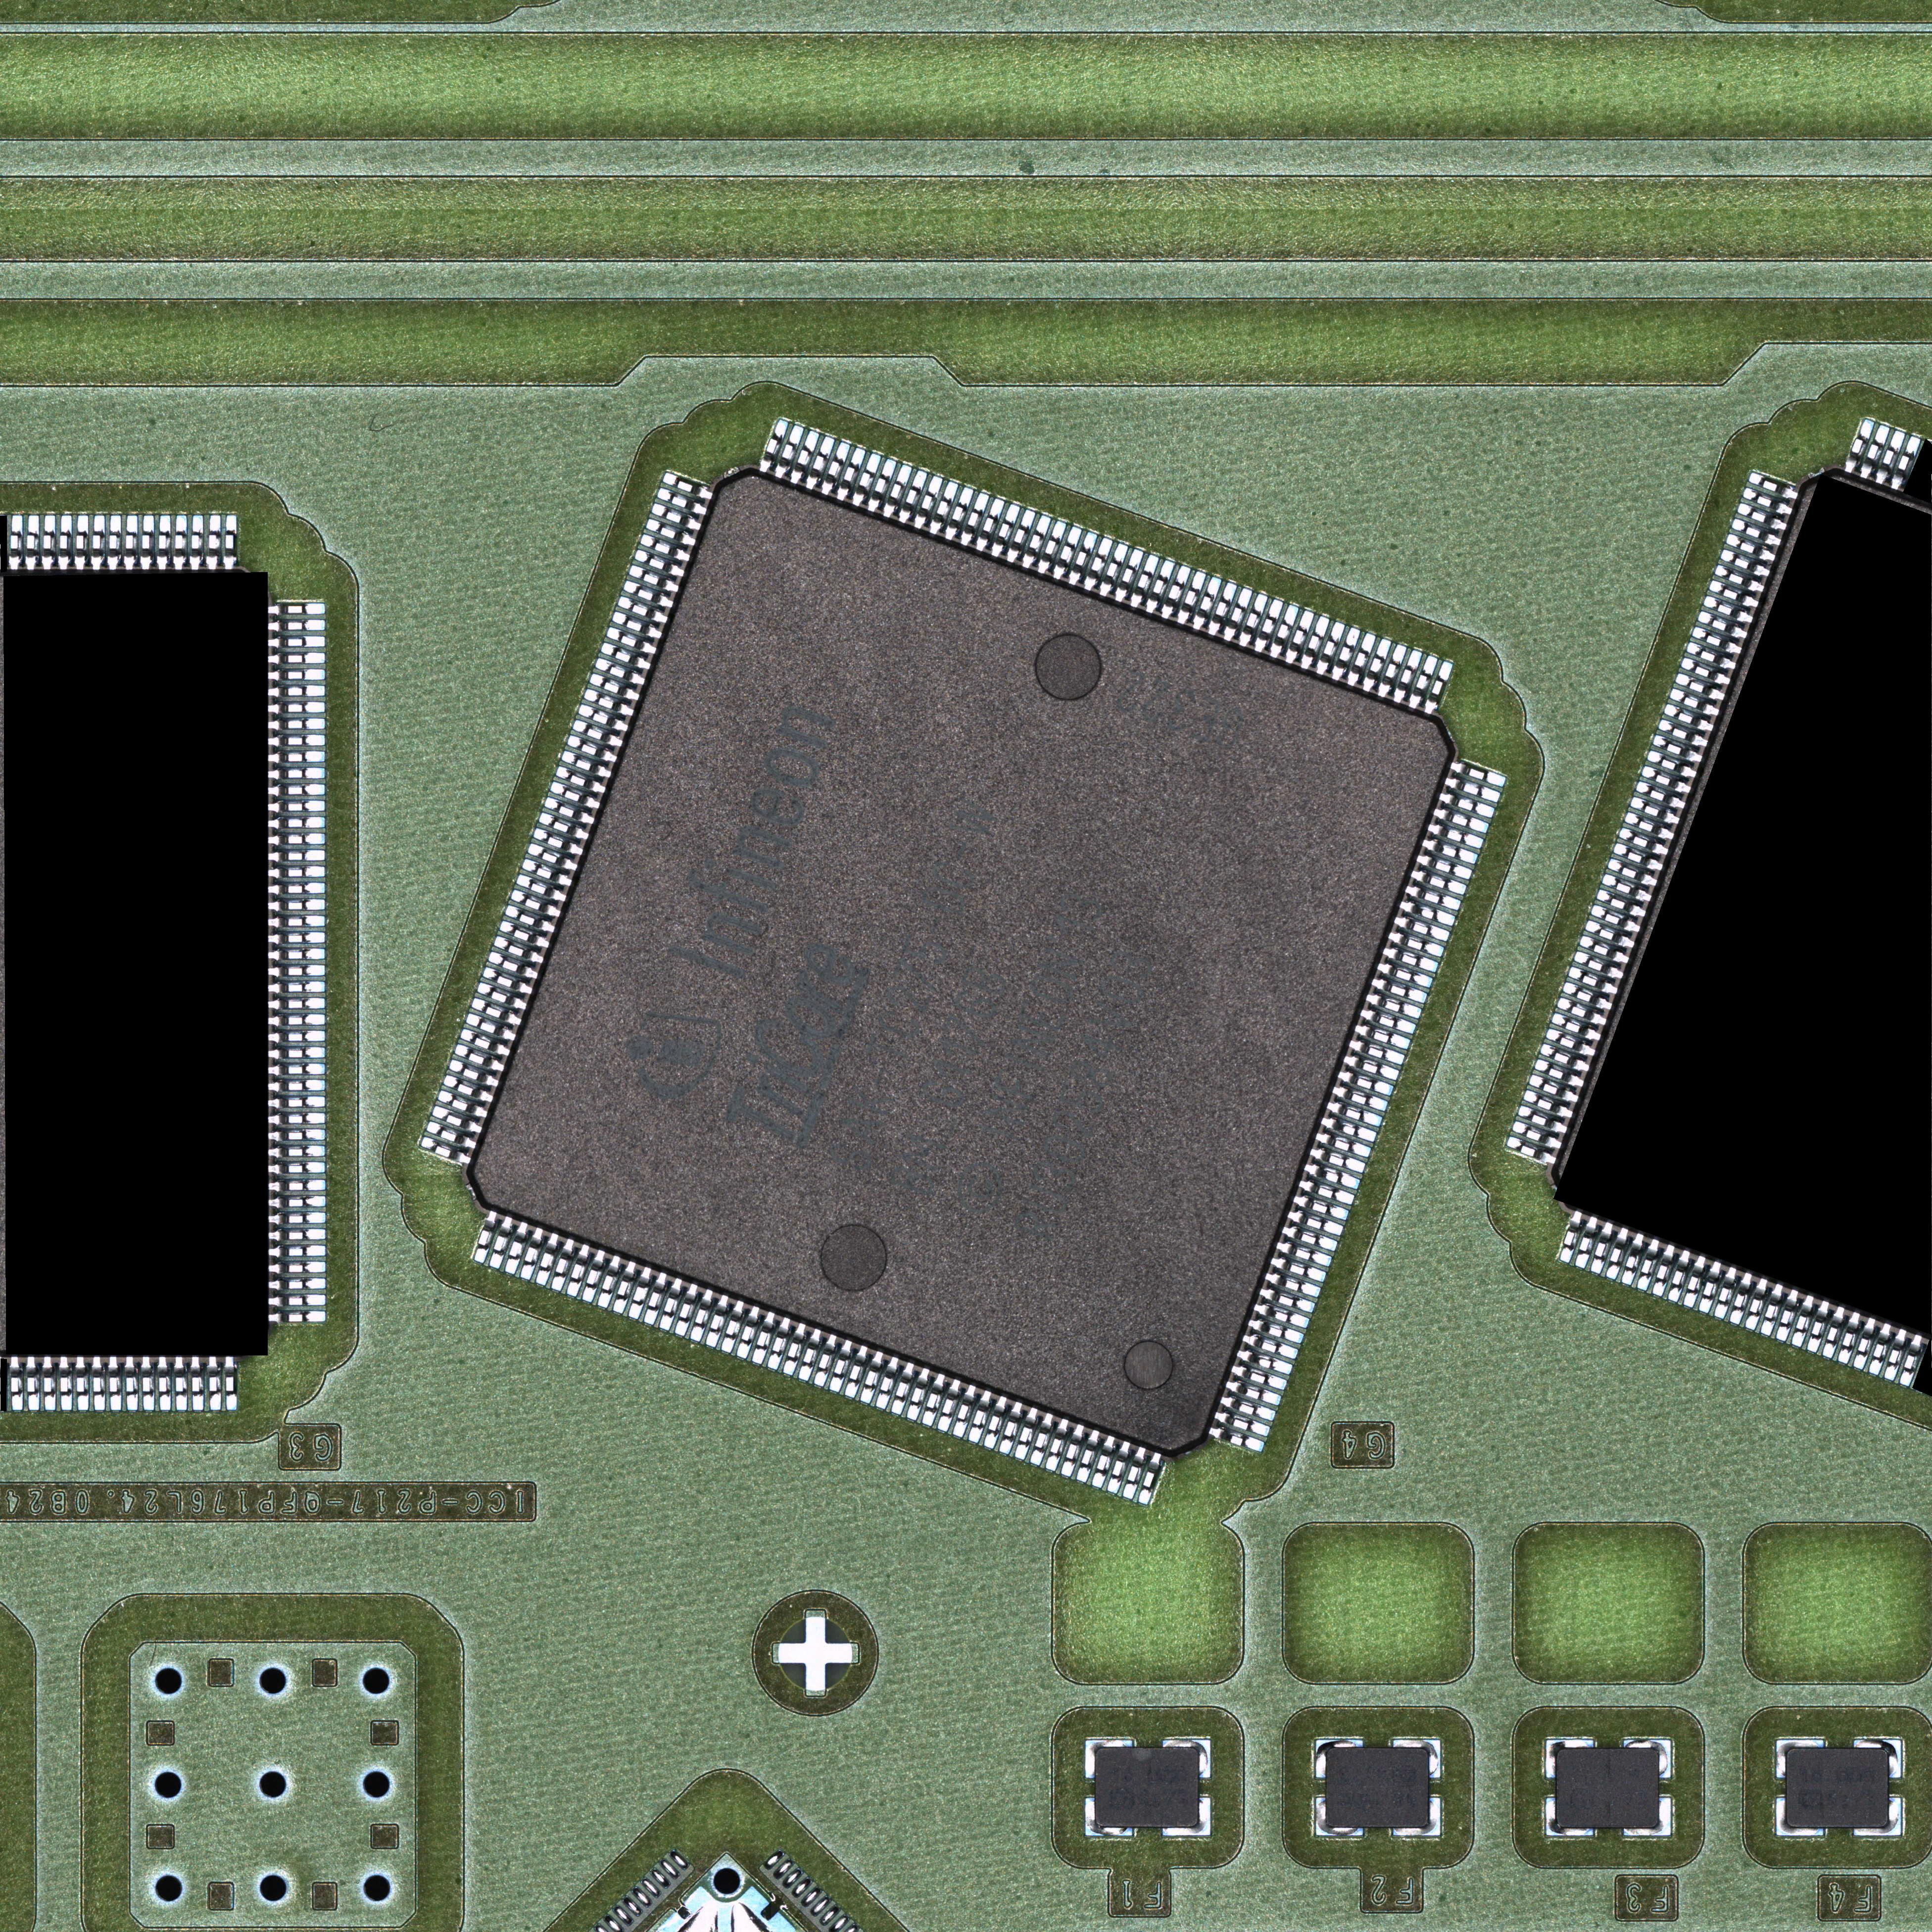Package: (462, 462, 1461, 1461), (1095, 1748, 1200, 1828), (1325, 1748, 1430, 1828), (1557, 1748, 1660, 1828), (1787, 1748, 1890, 1828)
Solder: (1343, 630, 1380, 690), (1240, 1329, 1302, 1364), (939, 485, 977, 543), (1375, 640, 1410, 701), (1283, 607, 1318, 667), (1189, 573, 1224, 633), (971, 495, 1007, 556), (1003, 506, 1039, 566), (1033, 517, 1069, 577), (863, 455, 899, 515), (817, 439, 853, 499), (847, 449, 883, 510), (1086, 1433, 1122, 1493), (932, 1376, 968, 1437), (901, 1366, 936, 1426), (715, 1299, 750, 1359), (745, 1309, 780, 1369), (1212, 1407, 1274, 1440), (1217, 1391, 1279, 1424), (1251, 1299, 1313, 1332), (1246, 1315, 1307, 1348), (1256, 1283, 1318, 1316), (1302, 1159, 1364, 1192), (1297, 1175, 1359, 1208), (1307, 1143, 1369, 1177), (1408, 865, 1470, 899), (1421, 658, 1456, 717), (1405, 653, 1440, 711), (1391, 648, 1426, 706), (1359, 637, 1394, 695), (1329, 625, 1364, 683), (1313, 619, 1348, 678), (1251, 596, 1286, 655), (1267, 603, 1302, 662), (1297, 614, 1332, 672), (1221, 586, 1256, 644), (1205, 580, 1240, 639), (1235, 591, 1270, 649), (1157, 563, 1192, 621), (1143, 557, 1178, 616), (1127, 552, 1162, 610), (1111, 547, 1146, 605), (1095, 541, 1131, 600), (1065, 529, 1100, 587), (987, 502, 1023, 561), (955, 490, 991, 548), (1019, 513, 1054, 571), (1049, 524, 1085, 582), (879, 462, 915, 520), (893, 467, 929, 525), (909, 472, 945, 531), (925, 478, 961, 536), (803, 435, 839, 494), (787, 428, 823, 487), (833, 446, 869, 504), (771, 423, 807, 481), (755, 418, 791, 476), (1040, 1417, 1076, 1476), (962, 1389, 998, 1447), (978, 1394, 1014, 1453), (994, 1399, 1030, 1458), (916, 1371, 952, 1430), (947, 1384, 982, 1442), (869, 1355, 904, 1414), (855, 1350, 890, 1408), (839, 1343, 874, 1401), (731, 1304, 766, 1362), (1872, 428, 1907, 487), (1888, 433, 1923, 492), (1118, 1444, 1152, 1504), (1207, 1422, 1267, 1456), (1235, 1345, 1295, 1378), (1269, 1253, 1329, 1286), (1274, 1237, 1334, 1270), (1325, 1097, 1385, 1131), (1343, 1051, 1403, 1085), (1392, 911, 1453, 945), (1376, 959, 1437, 993), (1403, 881, 1463, 915), (1437, 787, 1497, 821), (1431, 803, 1491, 837), (1056, 1422, 1092, 1479), (1284, 1207, 1346, 1238), (1279, 1223, 1341, 1254), (1313, 1129, 1375, 1161), (1318, 1113, 1380, 1145), (1336, 1067, 1398, 1099), (1330, 1083, 1392, 1115), (1352, 1021, 1414, 1053), (1424, 819, 1486, 851), (1175, 568, 1208, 626), (1081, 534, 1115, 593), (1102, 1440, 1136, 1499), (1072, 1428, 1106, 1486), (1010, 1405, 1044, 1463), (886, 1361, 920, 1419), (809, 1332, 842, 1391), (793, 1327, 826, 1385), (778, 1322, 812, 1380), (701, 1293, 734, 1352), (655, 1276, 688, 1334), (531, 1231, 564, 1290), (485, 1214, 518, 1272), (469, 1208, 502, 1267), (1415, 849, 1474, 883), (1858, 423, 1891, 481), (1085, 1798, 1134, 1836), (1230, 1361, 1290, 1392), (1292, 1191, 1352, 1223), (1263, 1269, 1323, 1300), (1346, 1037, 1407, 1069), (1359, 1005, 1419, 1037), (1364, 991, 1424, 1023), (1369, 975, 1430, 1007), (1387, 929, 1447, 961), (1382, 943, 1442, 975), (1398, 897, 1458, 929), (1421, 835, 1481, 867), (1442, 773, 1502, 805), (1026, 1412, 1060, 1468), (824, 1339, 858, 1396), (763, 1316, 796, 1373), (517, 1226, 550, 1283), (501, 1221, 534, 1277), (547, 1238, 580, 1295), (418, 1134, 474, 1168), (428, 1102, 485, 1136), (446, 1056, 502, 1090), (435, 1088, 492, 1122), (462, 1010, 518, 1044), (451, 1040, 508, 1074), (502, 902, 559, 936), (469, 994, 525, 1028), (495, 918, 552, 952), (490, 934, 547, 968), (524, 840, 580, 874), (529, 824, 586, 858), (547, 778, 603, 812), (536, 810, 593, 844), (563, 732, 619, 766), (557, 748, 614, 782), (603, 625, 660, 658), (570, 717, 626, 750), (580, 686, 637, 720), (614, 593, 671, 626), (635, 531, 692, 564), (619, 579, 676, 612), (658, 469, 715, 502), (642, 517, 699, 550), (1842, 418, 1875, 474), (1134, 1451, 1166, 1509), (609, 1258, 640, 1316), (640, 1270, 672, 1329), (1224, 1376, 1283, 1408), (1449, 757, 1507, 789), (1085, 1739, 1132, 1778), (1162, 1739, 1210, 1778), (1162, 1798, 1210, 1836), (1316, 1739, 1364, 1778), (1316, 1798, 1364, 1836), (1392, 1739, 1440, 1778), (1624, 1739, 1672, 1778), (1546, 1739, 1594, 1778), (1546, 1798, 1594, 1836), (1776, 1739, 1824, 1778), (1776, 1798, 1824, 1836), (1854, 1739, 1902, 1778), (423, 1118, 478, 1152), (441, 1072, 495, 1106), (456, 1026, 511, 1060), (474, 980, 529, 1014), (479, 964, 534, 998), (487, 948, 541, 982), (513, 870, 568, 904), (508, 886, 563, 920), (520, 856, 575, 890), (541, 794, 596, 828), (554, 763, 609, 796), (575, 702, 630, 736), (598, 640, 653, 674), (593, 656, 648, 690), (587, 671, 642, 704), (609, 609, 663, 642), (632, 547, 686, 580), (626, 563, 681, 596), (655, 485, 709, 518), (1622, 1798, 1672, 1835), (686, 1288, 718, 1345), (671, 1283, 702, 1339), (579, 1247, 610, 1304), (594, 1254, 626, 1311), (625, 1265, 656, 1322), (563, 1242, 594, 1299), (1392, 1798, 1440, 1835), (1854, 1798, 1902, 1835), (649, 501, 704, 533), (1711, 1265, 1741, 1322), (1819, 1304, 1849, 1361), (1736, 501, 1789, 533), (1730, 517, 1783, 548), (1718, 547, 1771, 579), (1707, 579, 1760, 610), (1702, 593, 1755, 625), (1697, 609, 1750, 640), (1690, 625, 1743, 656), (1684, 640, 1737, 672), (1674, 671, 1727, 702), (1668, 686, 1721, 718), (1656, 718, 1709, 750), (1651, 732, 1704, 764), (1645, 748, 1698, 780), (1640, 764, 1693, 796), (1628, 794, 1681, 826), (1622, 810, 1675, 842), (1617, 826, 1670, 858), (1606, 856, 1660, 888), (1601, 872, 1654, 904), (1594, 888, 1647, 920), (1589, 902, 1642, 934), (1583, 918, 1637, 950), (1578, 934, 1631, 966), (1573, 950, 1626, 982), (1566, 964, 1619, 996), (1560, 980, 1614, 1012), (1545, 1026, 1598, 1058), (1539, 1042, 1592, 1074), (1516, 1104, 1569, 1136), (1522, 1088, 1575, 1120), (1506, 1134, 1559, 1166), (1511, 1118, 1564, 1150), (1532, 1058, 1587, 1088), (1587, 1221, 1617, 1276), (1603, 1226, 1633, 1281), (1617, 1231, 1647, 1286), (1633, 1237, 1663, 1292), (1649, 1244, 1679, 1299), (1741, 1277, 1771, 1332), (1757, 1283, 1787, 1338), (1714, 563, 1766, 594), (1697, 1260, 1725, 1316), (1789, 1293, 1817, 1350), (1805, 1299, 1833, 1355), (1867, 1322, 1895, 1378), (1881, 1327, 1909, 1384), (1897, 1332, 1925, 1389), (1746, 471, 1799, 501), (1741, 487, 1794, 517), (1679, 656, 1732, 686), (1663, 702, 1716, 732), (1635, 780, 1688, 810), (1612, 842, 1665, 872), (1555, 996, 1608, 1026), (1550, 1012, 1603, 1042), (1527, 1074, 1580, 1104), (1573, 1215, 1601, 1270), (1665, 1249, 1693, 1304), (1681, 1254, 1709, 1309), (1727, 1272, 1755, 1327), (1773, 1288, 1801, 1343), (1835, 1311, 1863, 1366), (1851, 1316, 1879, 1371), (1725, 533, 1776, 563), (1557, 1210, 1585, 1263), (90, 515, 106, 571), (74, 515, 90, 571), (189, 515, 205, 571), (173, 515, 189, 571), (156, 515, 172, 571), (140, 515, 156, 571), (205, 515, 221, 571), (223, 515, 239, 571), (25, 515, 41, 570), (58, 515, 74, 570), (267, 602, 326, 616), (267, 617, 326, 632), (267, 635, 326, 649), (267, 651, 326, 665), (267, 669, 326, 683), (267, 685, 326, 699), (267, 701, 326, 715), (267, 717, 326, 731), (267, 734, 326, 748), (267, 750, 326, 764), (267, 766, 326, 780), (267, 800, 326, 814), (267, 784, 326, 798), (267, 915, 326, 929), (267, 1046, 326, 1060), (267, 1079, 326, 1093), (267, 1095, 326, 1109), (267, 1113, 326, 1127), (267, 1145, 326, 1159), (267, 1161, 326, 1175), (269, 1244, 327, 1258), (269, 1260, 327, 1274), (269, 1277, 327, 1292), (269, 1309, 327, 1323), (124, 515, 138, 571), (108, 515, 122, 571), (269, 816, 326, 830), (269, 832, 326, 846), (269, 849, 326, 863), (269, 865, 326, 879), (269, 881, 326, 895), (269, 931, 326, 945), (269, 947, 326, 961), (269, 964, 326, 978), (269, 980, 326, 994), (269, 996, 326, 1010), (269, 1030, 326, 1044), (269, 1129, 326, 1143), (269, 1178, 326, 1192), (269, 1194, 326, 1208), (269, 1210, 326, 1224), (269, 1228, 326, 1242), (269, 1293, 326, 1307), (9, 515, 23, 570), (42, 515, 57, 570), (223, 1355, 237, 1410), (207, 1355, 221, 1410), (189, 1355, 203, 1410), (142, 1357, 156, 1412), (124, 1357, 138, 1412), (108, 1357, 122, 1412), (74, 1357, 88, 1412), (58, 1357, 73, 1412), (42, 1355, 57, 1410), (173, 1357, 188, 1410), (157, 1357, 172, 1410), (92, 1357, 106, 1410), (9, 1357, 23, 1410), (27, 1357, 41, 1410), (267, 899, 326, 911), (269, 1014, 326, 1026), (269, 1063, 326, 1076)
